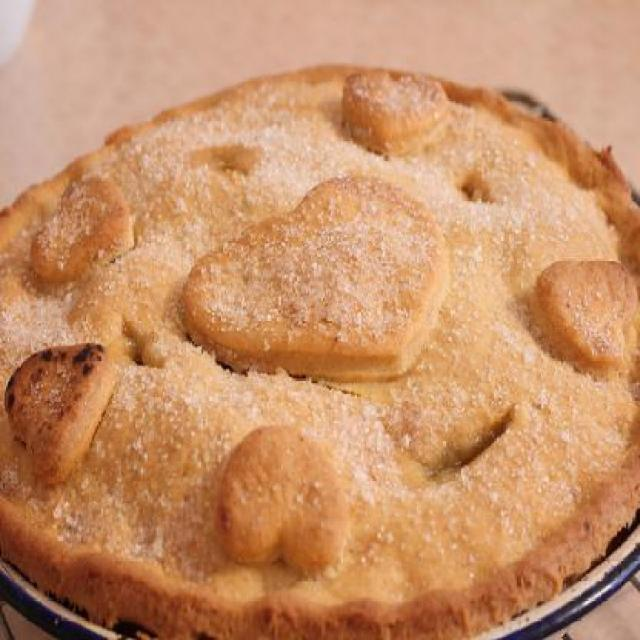Apple: (14, 66, 637, 628)
